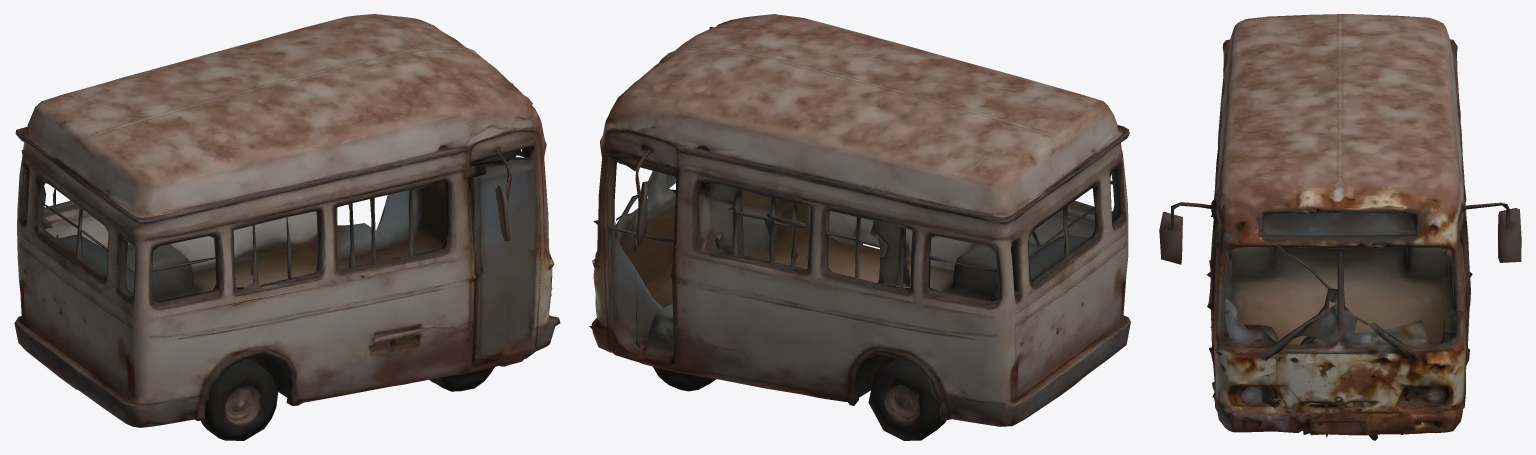
File: bus_wreck.glb
3 renders of one model, left to right at view 1: azimuth 30°, elevation 25°; view 2: azimuth 150°, elevation 25°; view 3: azimuth 270°, elevation 25°, orthographic. The views are drawn at different scales.
Visible parts, largest first — view 1: tripo_node_d62f85a1-6c45-449e-b708-d9a257e07ca9; view 2: tripo_node_d62f85a1-6c45-449e-b708-d9a257e07ca9; view 3: tripo_node_d62f85a1-6c45-449e-b708-d9a257e07ca9.
Boxes of the visible parts, <box> form: tripo_node_d62f85a1-6c45-449e-b708-d9a257e07ca9: <box>14,14,560,440</box>; tripo_node_d62f85a1-6c45-449e-b708-d9a257e07ca9: <box>589,14,1130,440</box>; tripo_node_d62f85a1-6c45-449e-b708-d9a257e07ca9: <box>1159,14,1521,440</box>.
Size of the model in its own units: 1 by 0.6484 by 0.787.
Materials: 1 (1 with a texture image).
